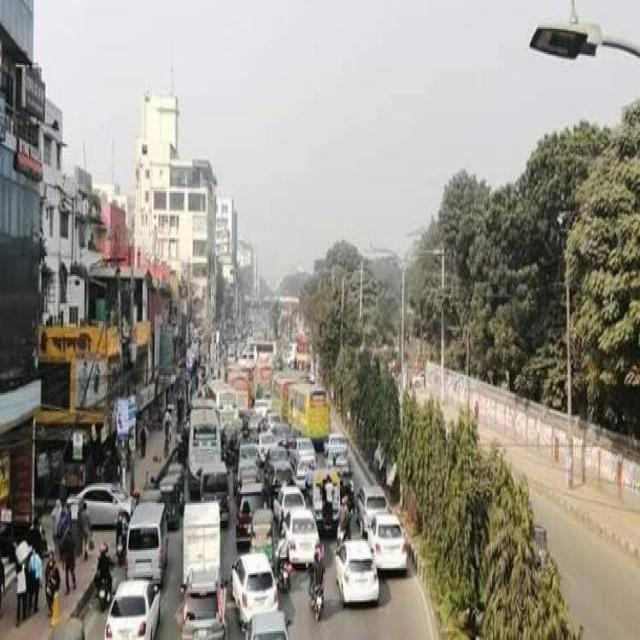Motorcycle: (306, 563, 325, 620)
Truck: (178, 498, 222, 592)
